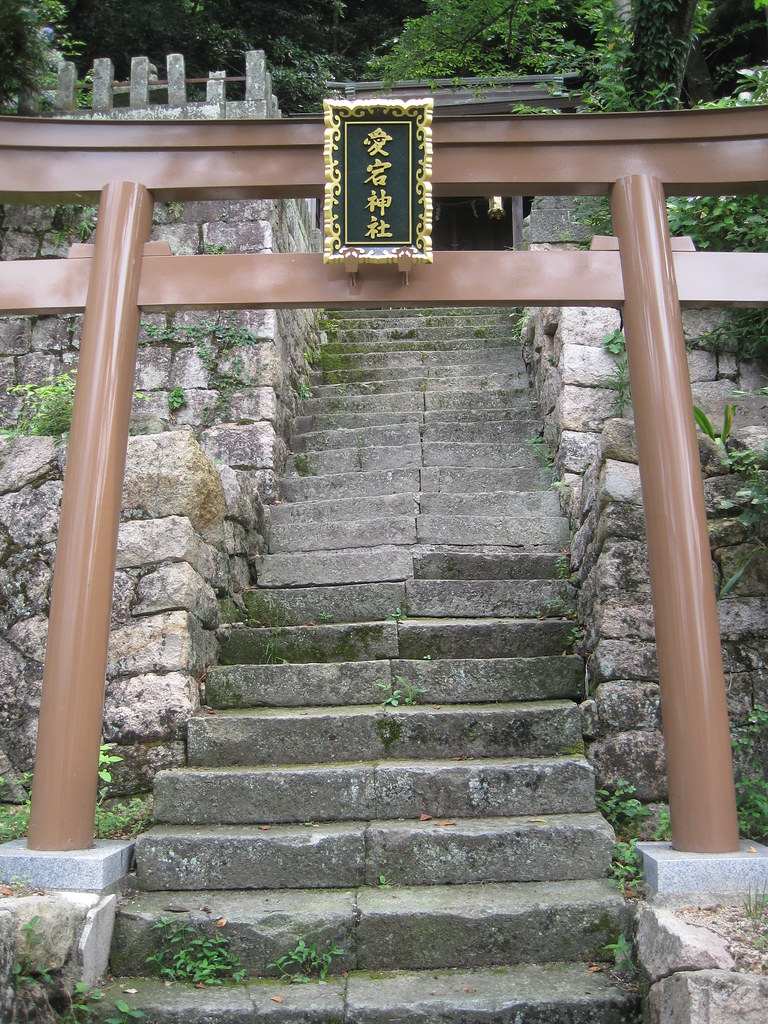upstairs: (215, 645, 576, 1024)
